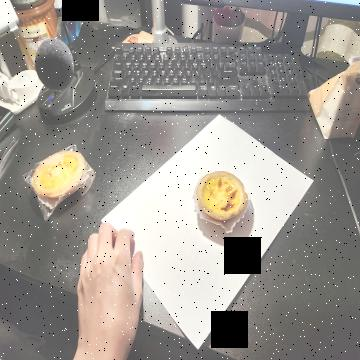EggTart: (195, 171, 248, 223)
